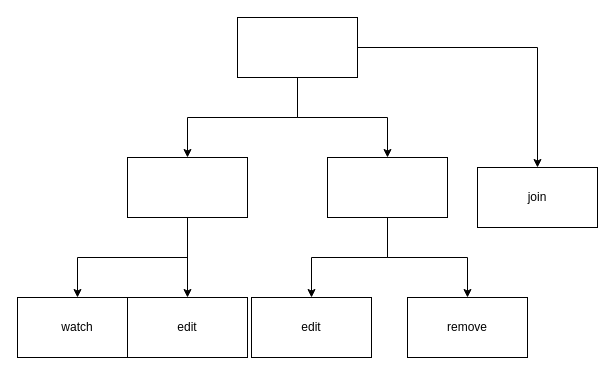
Some shapes in this 615 by 375 pixel diagram are drawn without their labels. The box of each missing label's shape, as (x1, y1, x2, y2) in pixels:
trending: (236, 16, 358, 78)
users: (326, 156, 448, 218)
video: (126, 156, 248, 218)
